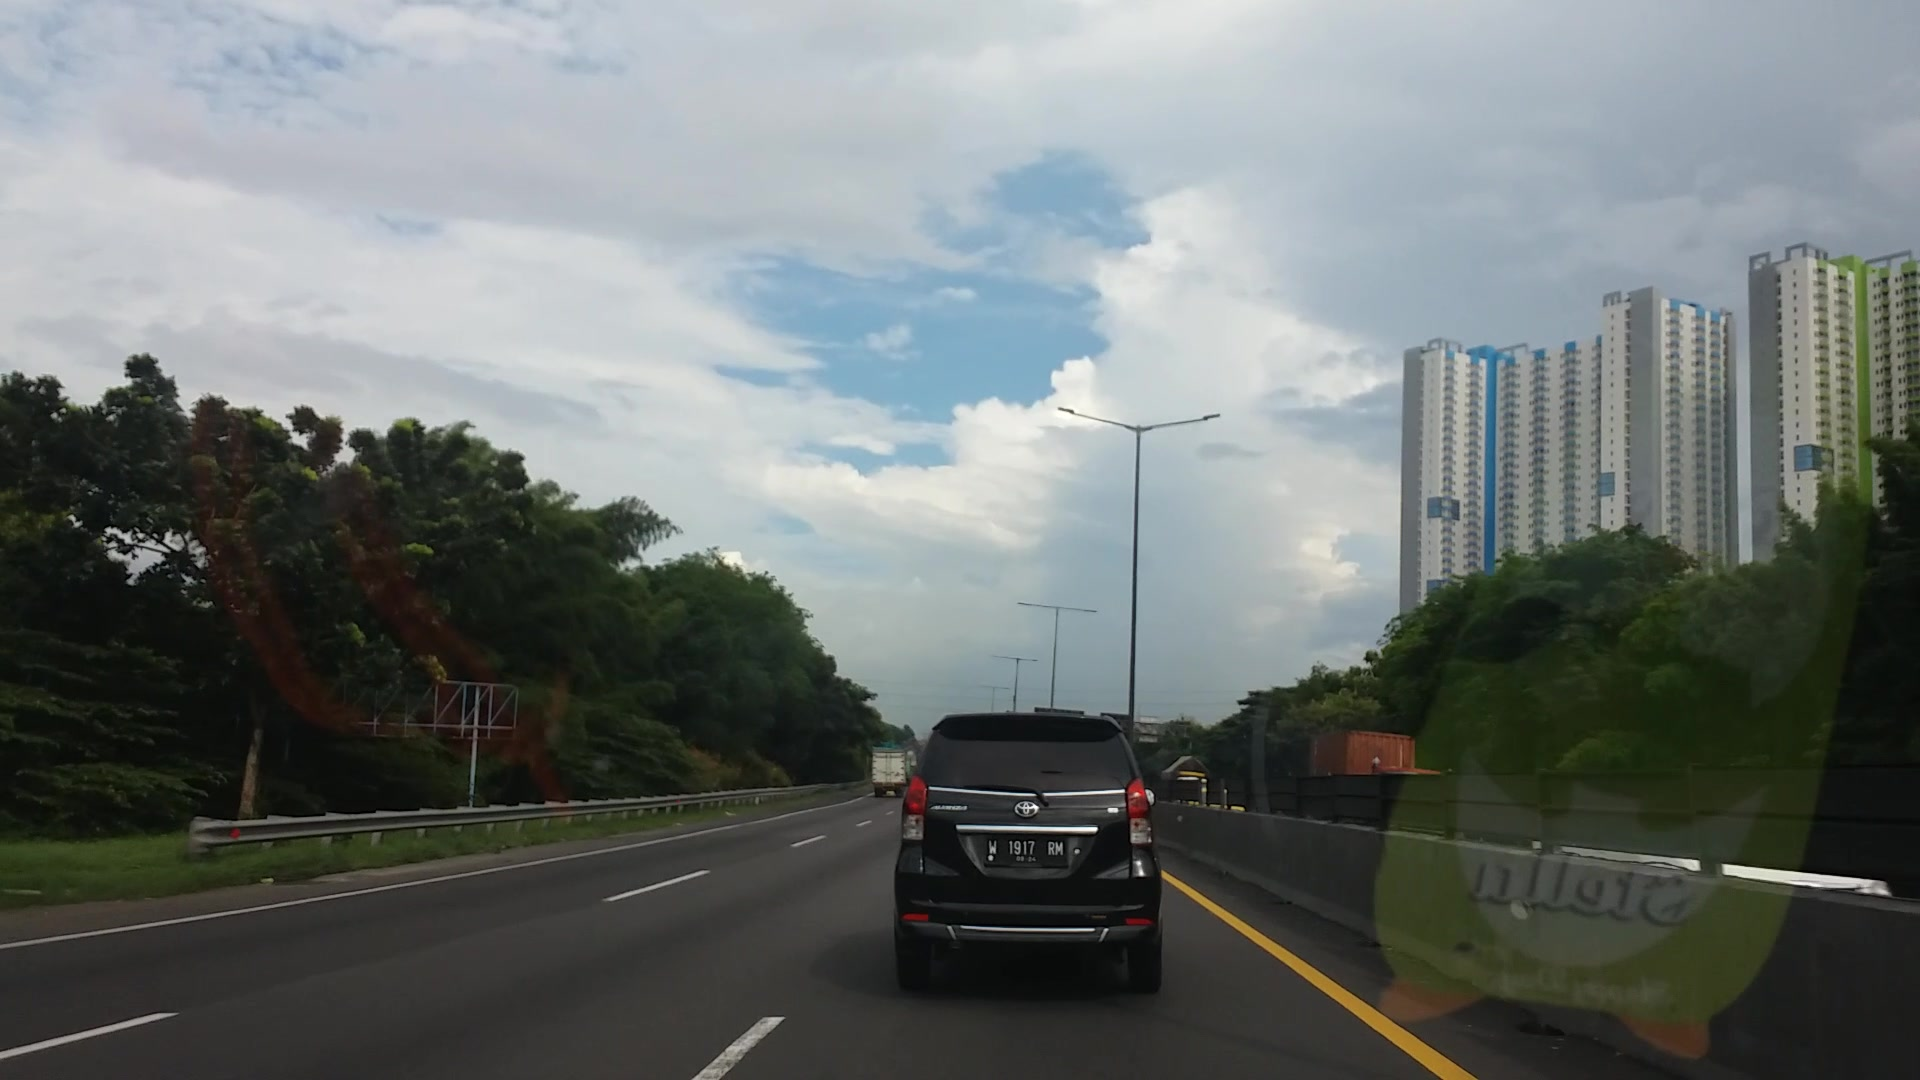plate_positive: (985, 836, 1065, 862)
